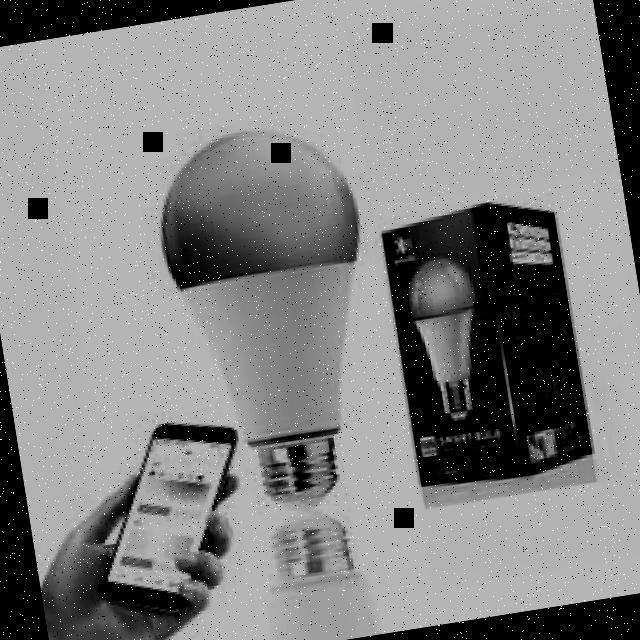light_bulb: (134, 102, 412, 529)
